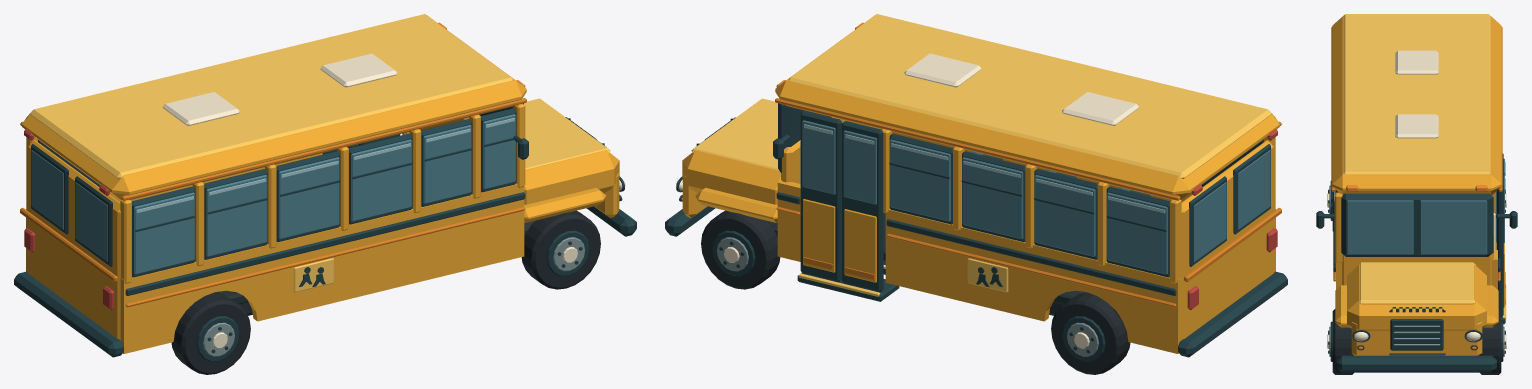
The model's file is school_bus.glb.
The picture shows the model from 3 angles, left to right: view 1: azimuth 30°, elevation 25°; view 2: azimuth 150°, elevation 25°; view 3: azimuth 270°, elevation 25°; orthographic projection. The views are drawn at different scales.
Parts seen in each view (by area): view 1: BusBody, WheelRearLeft, WheelFrontLeft; view 2: BusBody, DoorRear, DoorFront, WheelRearRight, WheelFrontRight; view 3: BusBody, DoorFront, WheelFrontRight, WheelFrontLeft, WheelRearLeft.
Part boxes in pixels (x1,y1,x2,y2): BusBody: [14, 14, 636, 357]; WheelRearLeft: [171, 292, 250, 374]; WheelFrontLeft: [521, 210, 600, 289]; BusBody: [665, 14, 1287, 357]; DoorRear: [842, 121, 883, 292]; DoorFront: [800, 111, 842, 281]; WheelRearRight: [1051, 292, 1130, 374]; WheelFrontRight: [701, 210, 780, 289]; BusBody: [1316, 14, 1517, 372]; DoorFront: [1496, 170, 1505, 316]; WheelFrontRight: [1480, 309, 1506, 374]; WheelFrontLeft: [1327, 309, 1353, 374]; WheelRearLeft: [1327, 181, 1333, 231].
Size of the model in its own units: 4.11 by 1.65 by 1.63.
